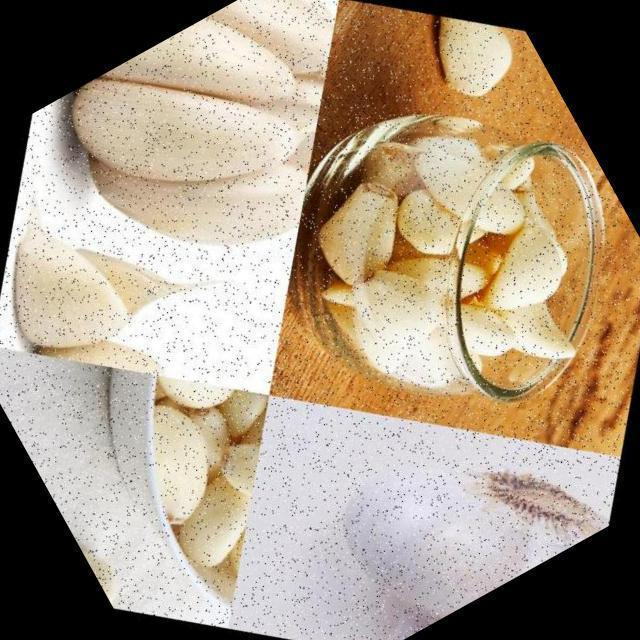garlic: (200, 13, 640, 508), (0, 0, 440, 360), (237, 335, 632, 640), (45, 328, 338, 624), (0, 138, 268, 456), (388, 0, 545, 139), (72, 516, 140, 608)
